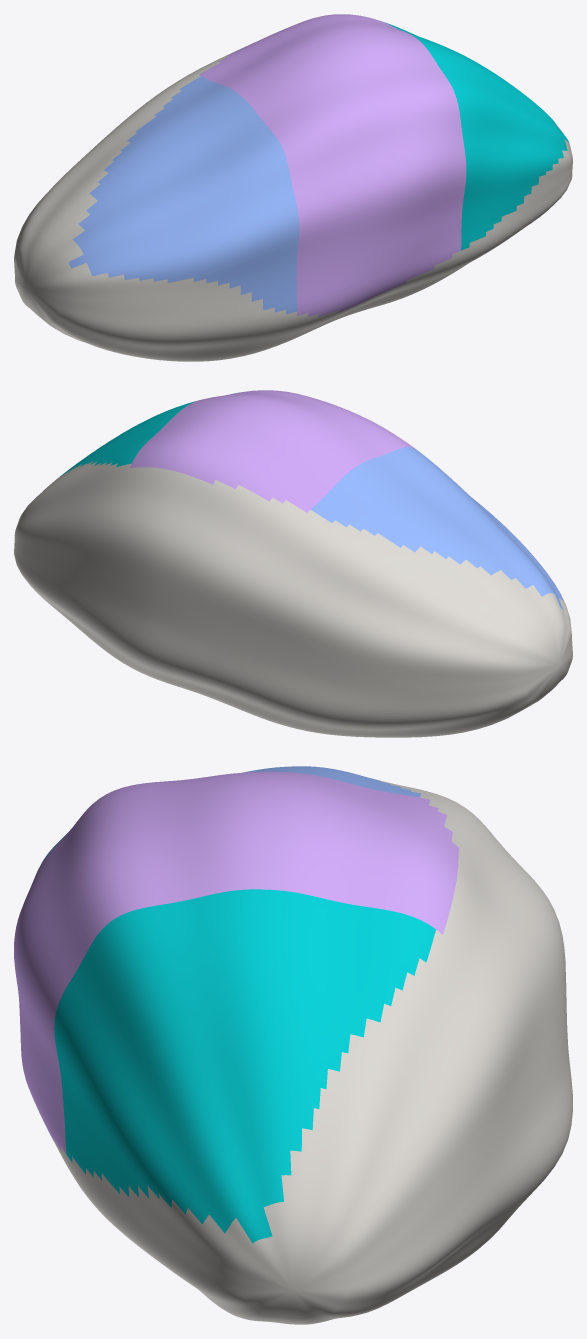
The model's file is mimic-core-b-lifted-crest.glb.
The picture shows the model from 3 angles, top to bottom: view 1: azimuth 30°, elevation 25°; view 2: azimuth 150°, elevation 25°; view 3: azimuth 270°, elevation 25°; orthographic projection. The views are drawn at different scales.
Parts seen in each view (by area): view 1: MimicCore_B_lifted-crest; view 2: MimicCore_B_lifted-crest; view 3: MimicCore_B_lifted-crest.
Boxes of the visible parts, bbox=[...] form: MimicCore_B_lifted-crest: bbox=[14, 14, 572, 361]; MimicCore_B_lifted-crest: bbox=[14, 390, 572, 737]; MimicCore_B_lifted-crest: bbox=[14, 766, 572, 1324].
Size of the model in its own units: 6.8 by 3.2 by 3.6.
